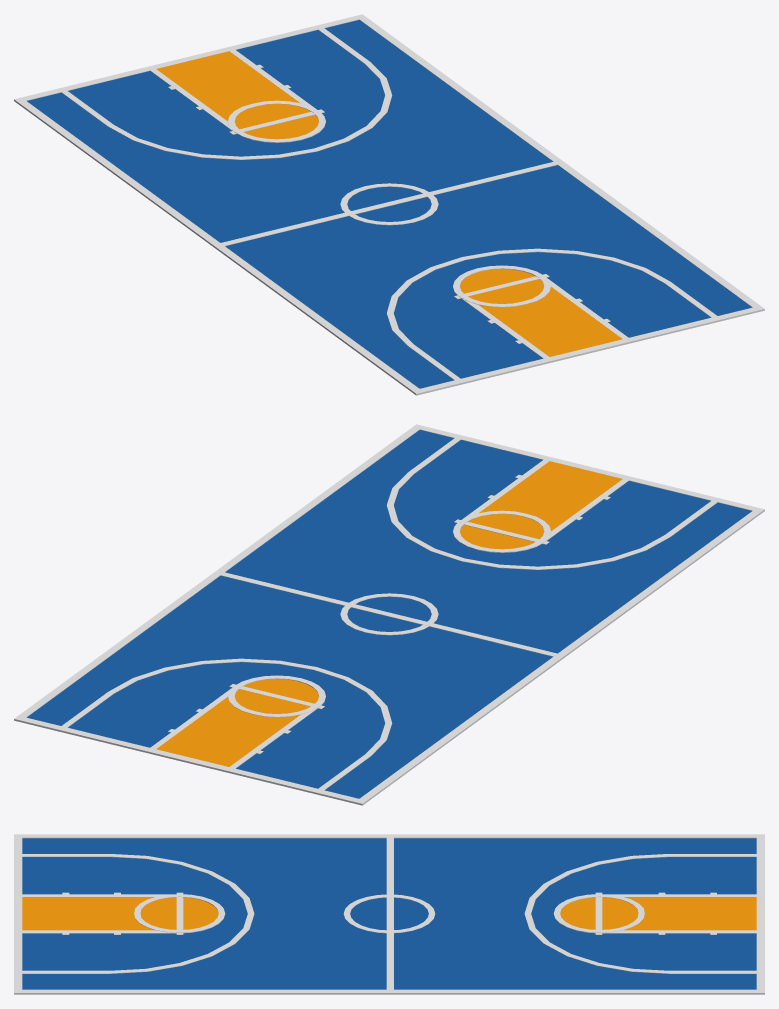
The model's file is Basketball_Court_1.fbx.
3 renders of one model, top to bottom at view 1: azimuth 30°, elevation 25°; view 2: azimuth 150°, elevation 25°; view 3: azimuth 270°, elevation 25°, orthographic. The views are drawn at different scales.
Parts seen in each view (by area): view 1: Basketball_Court_1; view 2: Basketball_Court_1; view 3: Basketball_Court_1.
Boxes of the visible parts, left/top/right/bottom form: Basketball_Court_1: left=14, top=14, right=764, bottom=395; Basketball_Court_1: left=14, top=424, right=764, bottom=805; Basketball_Court_1: left=14, top=834, right=764, bottom=994.
Size of the model in its own units: 800 by 4.45 by 1600.
